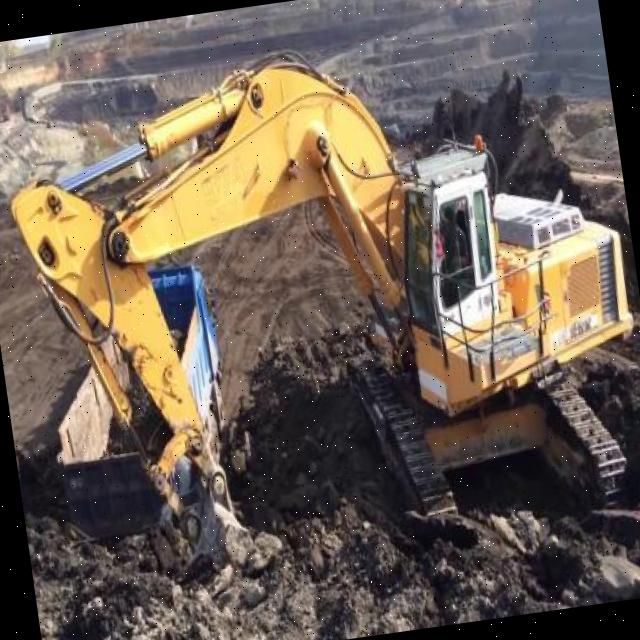Dump Truck: (36, 260, 244, 544)
Excavator: (0, 6, 640, 578)
